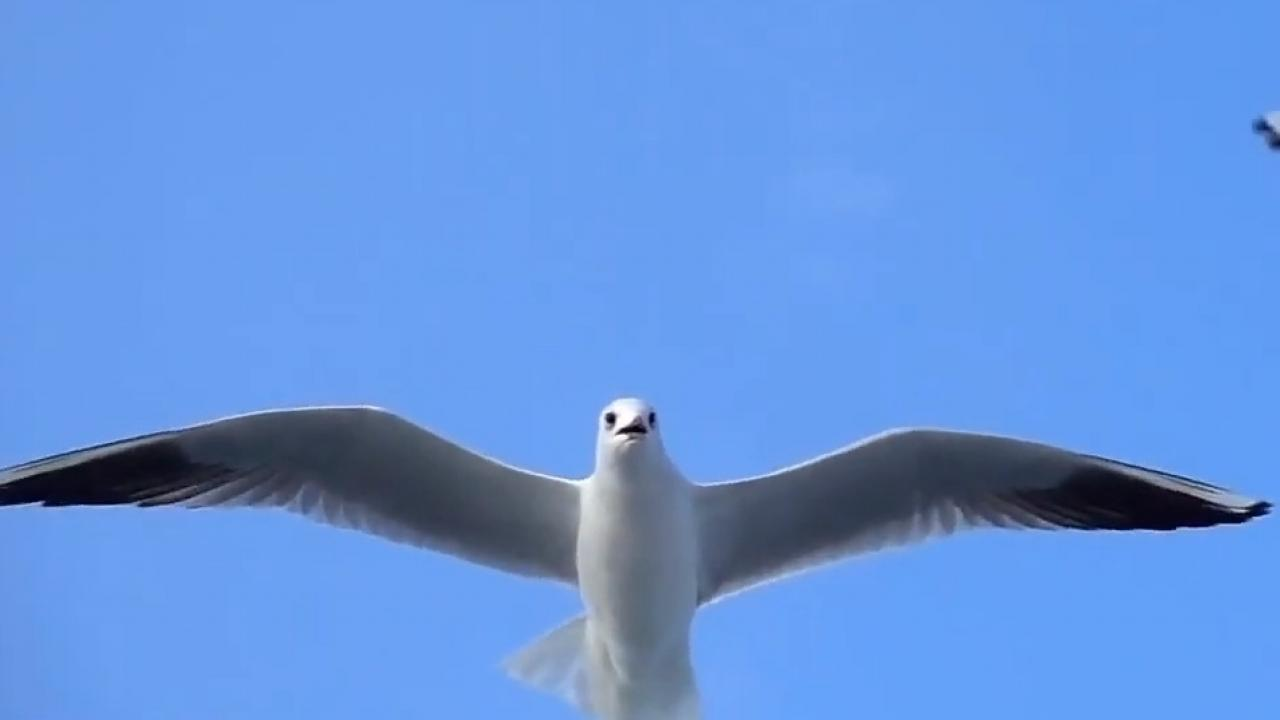Bird: (0, 384, 1280, 720)
